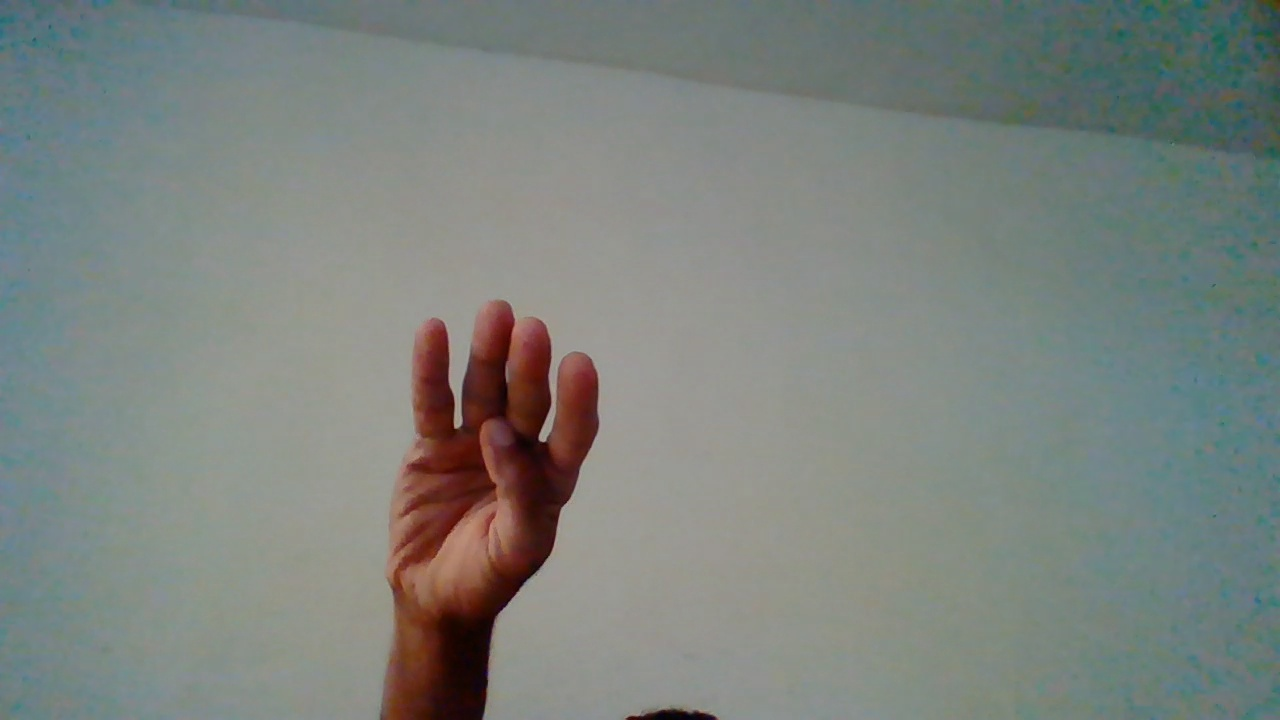me: (380, 300, 605, 720)
